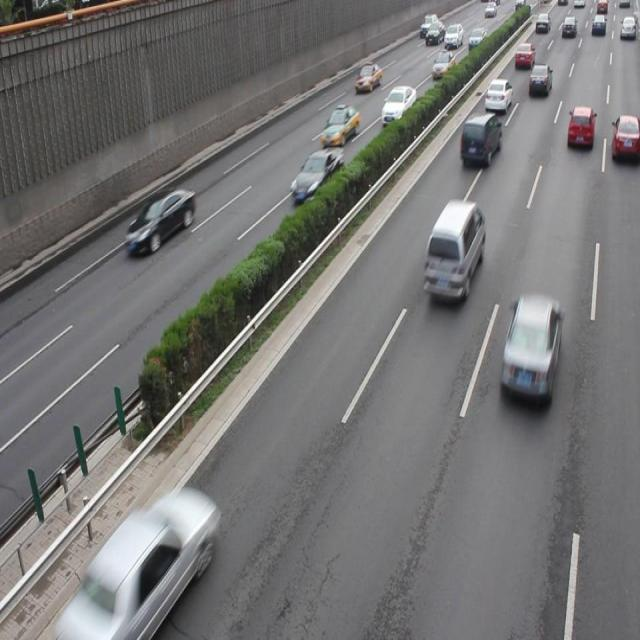car: (63, 487, 216, 640), (498, 292, 562, 408), (126, 187, 195, 256), (290, 146, 343, 205), (458, 110, 501, 167), (320, 104, 359, 148), (610, 114, 640, 165), (380, 84, 415, 127), (566, 105, 594, 152)
truck: (422, 198, 484, 301)
